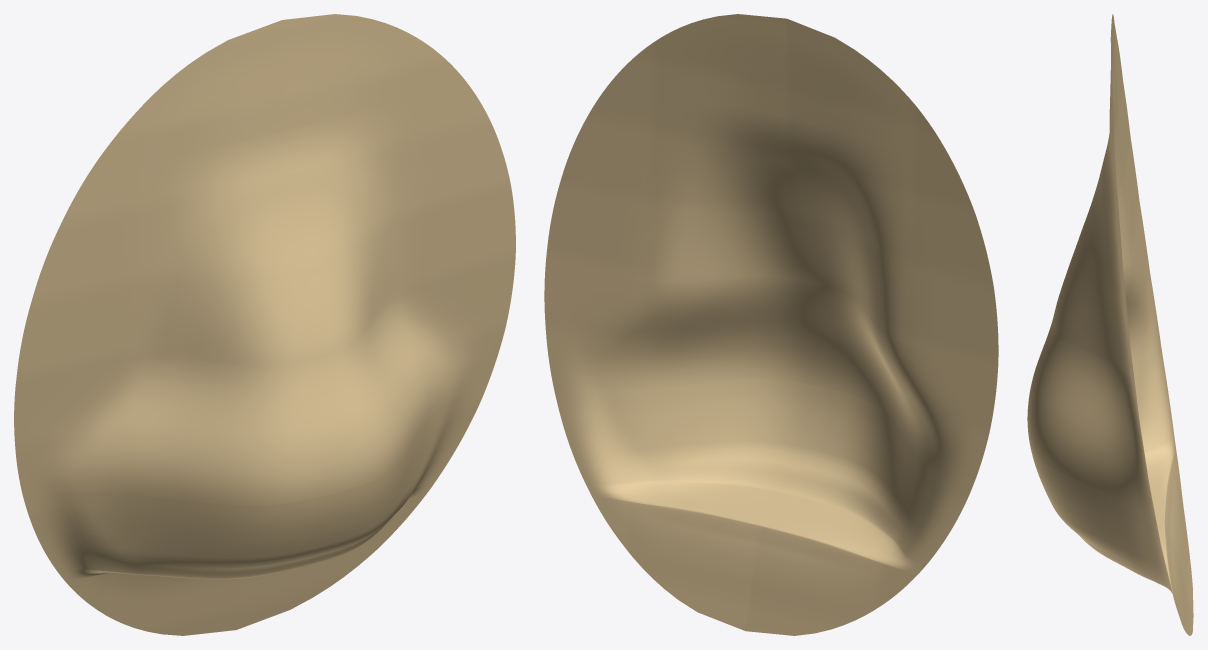
File: Feminine-nose-rounded.glb
The picture shows the model from 3 angles, left to right: view 1: azimuth 30°, elevation 25°; view 2: azimuth 150°, elevation 25°; view 3: azimuth 270°, elevation 25°; orthographic projection. The views are drawn at different scales.
Parts seen in each view (by area): view 1: Face / soft nose186; view 2: Face / soft nose186; view 3: Face / soft nose186.
Boxes of the visible parts, x1,y1,x2,y2 form: Face / soft nose186: [14, 14, 515, 635]; Face / soft nose186: [544, 14, 998, 635]; Face / soft nose186: [1027, 14, 1193, 635].
Bounding box in the file's own units: 0.104 × 0.128 × 0.0331.
